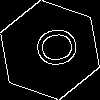O: (25, 25, 80, 72)
